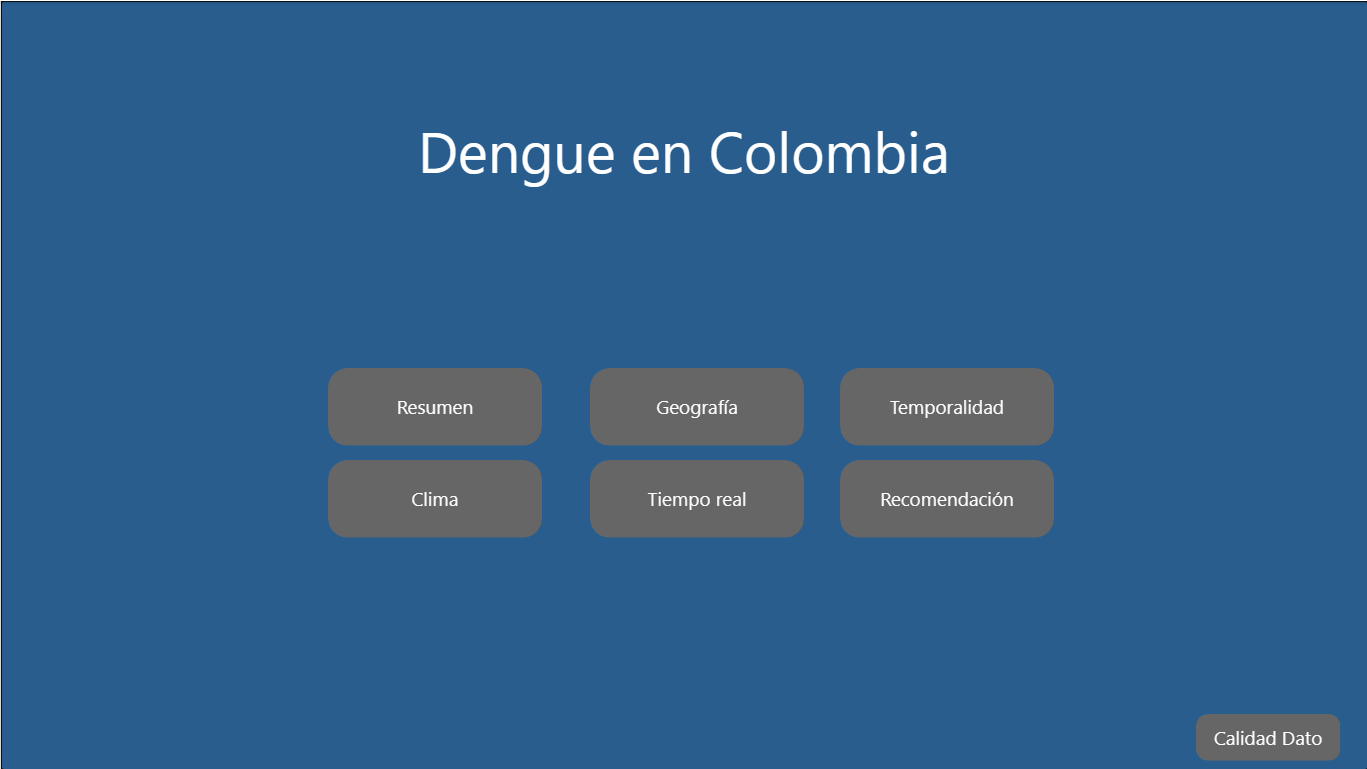

The page's visual inventory and layout, read from the dashboard file:
{"tool":"powerbi","page":{"name":"HOME","canvas":[1920,1080],"ordinal":7},"visuals":[{"type":"textbox","box":[418.7,156.1,1081.1,154.7],"z":0},{"type":"actionButton","box":[459.6,515,300.5,109.4],"z":2},{"type":"actionButton","box":[827.2,515,300.5,109.4],"z":3},{"type":"actionButton","box":[1178.8,515,300.5,109.4],"z":4},{"type":"actionButton","box":[459.6,644.9,300.5,109.4],"z":5},{"type":"actionButton","box":[827.2,644.9,300.5,109.4],"z":6},{"type":"actionButton","box":[1178.8,644.9,300.5,109.4],"z":7},{"type":"actionButton","box":[1677.8,1000.9,202.8,65.7],"z":8}]}

Visuals, with their boxes in screenshot pixels (x1, y1, x2, y2), scaled from the page's 1920x1080 canvas onto the 1367x769 screenshot:
textbox: region(298, 111, 1068, 221)
actionButton: region(327, 367, 541, 445)
actionButton: region(589, 367, 803, 445)
actionButton: region(839, 367, 1053, 445)
actionButton: region(327, 459, 541, 537)
actionButton: region(589, 459, 803, 537)
actionButton: region(839, 459, 1053, 537)
actionButton: region(1195, 713, 1339, 759)
